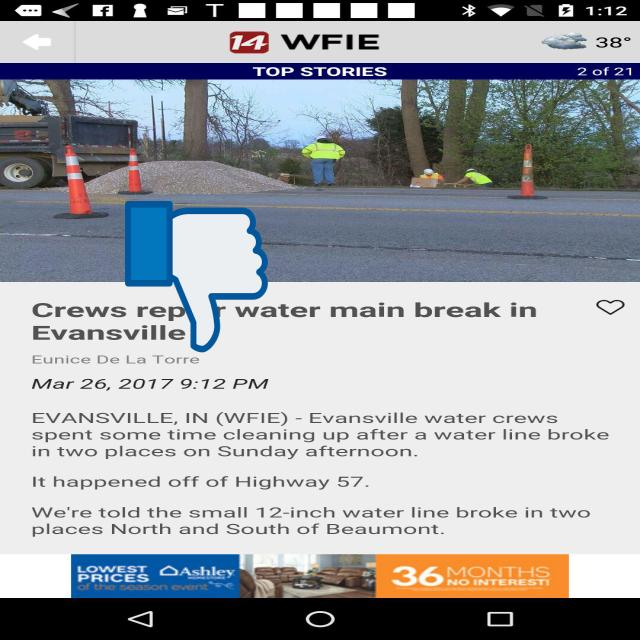obstruction: (125, 198, 268, 356)
